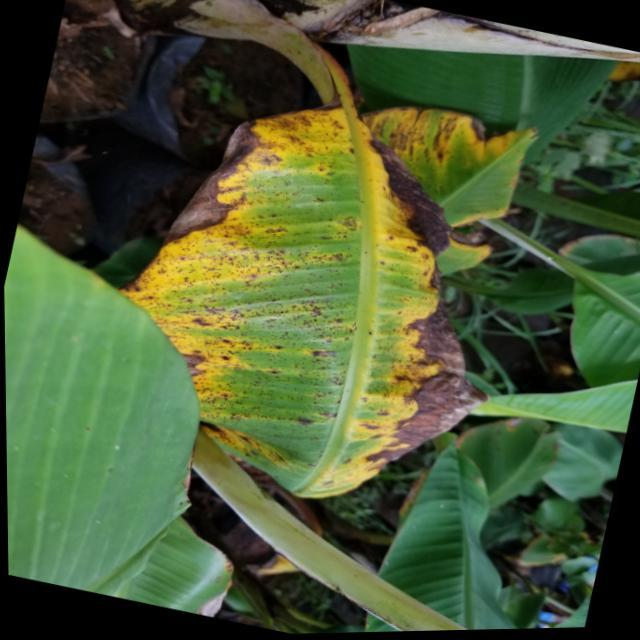Early_rust: (90, 78, 527, 537)
